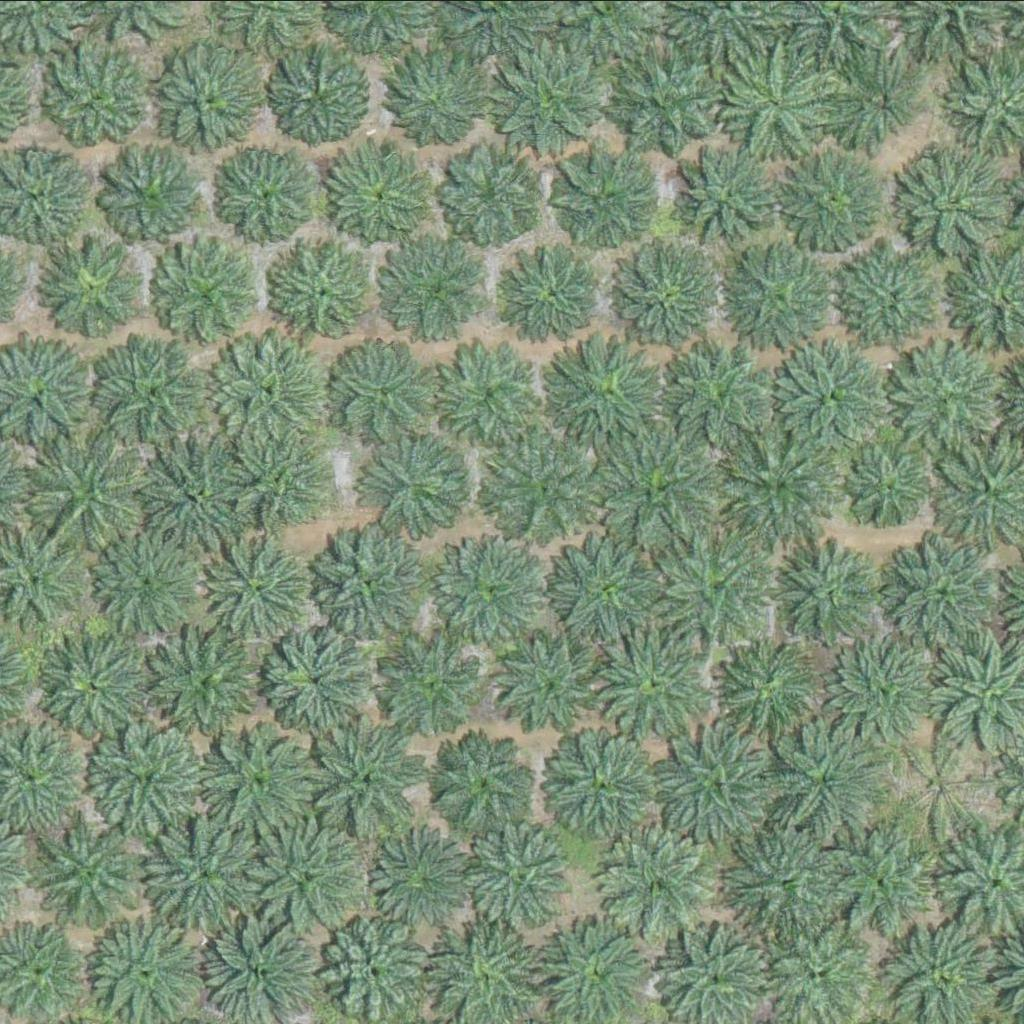Kelapa_Sawit: (212, 332, 338, 457), (664, 336, 790, 461), (721, 422, 847, 547), (146, 43, 260, 156), (434, 334, 548, 447), (356, 430, 470, 543), (547, 341, 661, 454), (596, 629, 710, 742), (886, 534, 1000, 647), (26, 432, 139, 545), (139, 440, 252, 553), (204, 531, 317, 644), (38, 812, 151, 925), (151, 818, 264, 931), (259, 819, 372, 932), (202, 725, 315, 838), (493, 39, 606, 152), (491, 433, 604, 546), (496, 620, 609, 733), (542, 727, 655, 840), (317, 721, 430, 834), (362, 825, 475, 938), (782, 142, 895, 255), (904, 147, 1017, 260), (612, 240, 725, 353), (725, 239, 838, 352), (826, 825, 939, 938), (728, 831, 841, 944), (656, 531, 769, 644), (323, 337, 437, 449), (311, 525, 425, 637), (597, 826, 711, 938), (657, 726, 771, 838), (834, 631, 948, 743), (272, 232, 385, 344), (152, 235, 265, 347), (90, 337, 203, 449), (36, 632, 149, 744), (154, 625, 267, 737), (89, 720, 202, 832), (267, 622, 380, 734), (381, 238, 494, 350), (384, 630, 497, 742), (445, 534, 558, 646), (547, 530, 660, 642), (471, 817, 584, 929), (320, 911, 433, 1023), (612, 43, 725, 155), (843, 242, 956, 354), (779, 341, 892, 453), (890, 342, 1003, 454), (601, 433, 714, 545), (769, 724, 882, 836), (891, 735, 992, 835), (45, 46, 146, 146), (95, 533, 196, 633), (387, 47, 488, 147), (327, 147, 428, 247), (437, 141, 538, 241), (434, 732, 535, 832), (729, 52, 830, 152), (823, 46, 924, 146), (559, 152, 660, 252), (676, 141, 777, 241), (267, 35, 367, 135), (100, 146, 200, 246), (219, 145, 319, 245), (43, 230, 143, 330), (508, 239, 608, 339), (718, 640, 818, 740), (776, 541, 876, 641), (852, 452, 928, 527), (243, 449, 318, 524)
